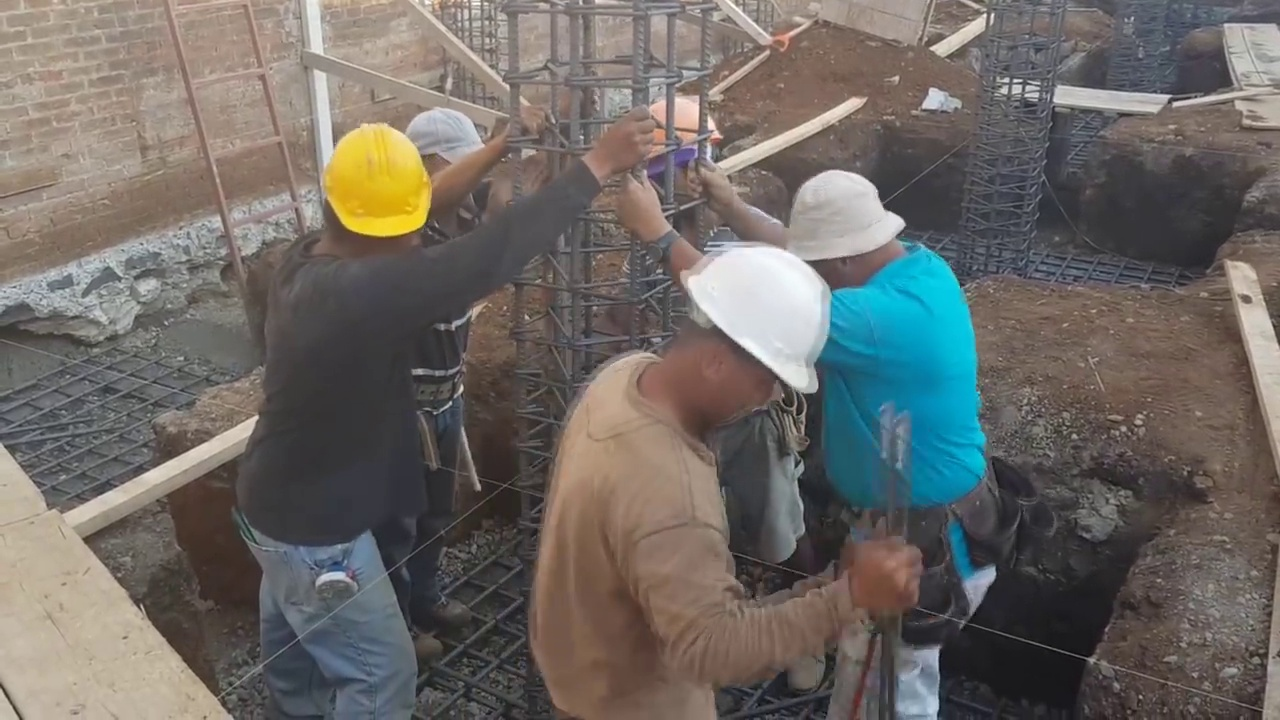helmet: (678, 242, 834, 395), (319, 123, 430, 238)
helmet-off: (784, 167, 915, 296), (408, 108, 489, 228)
helmet-on: (637, 236, 832, 452), (307, 123, 432, 263)
person: (229, 102, 656, 718), (526, 237, 922, 712), (684, 148, 1003, 718), (399, 112, 517, 668)
